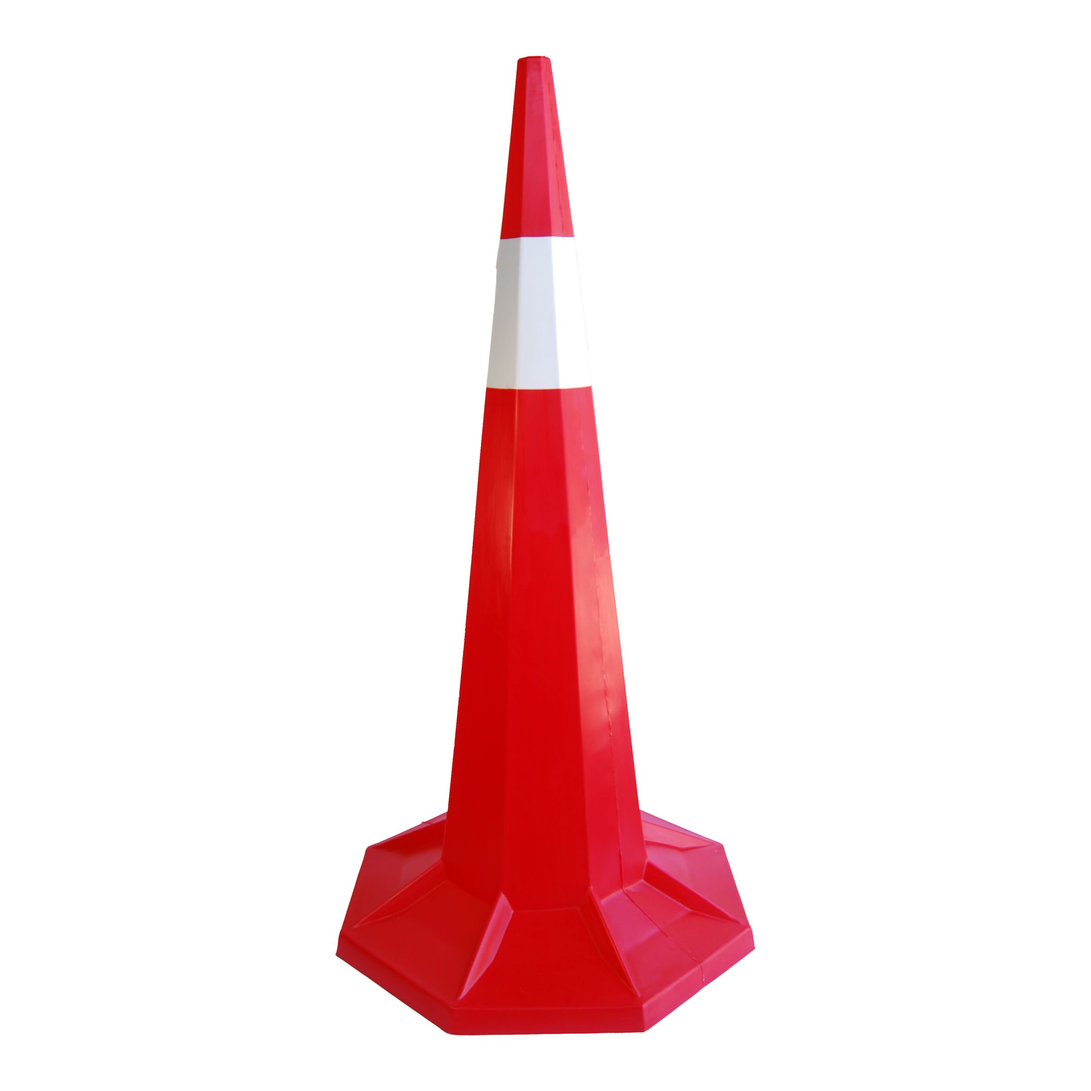Road_cone: (283, 47, 769, 1031)
